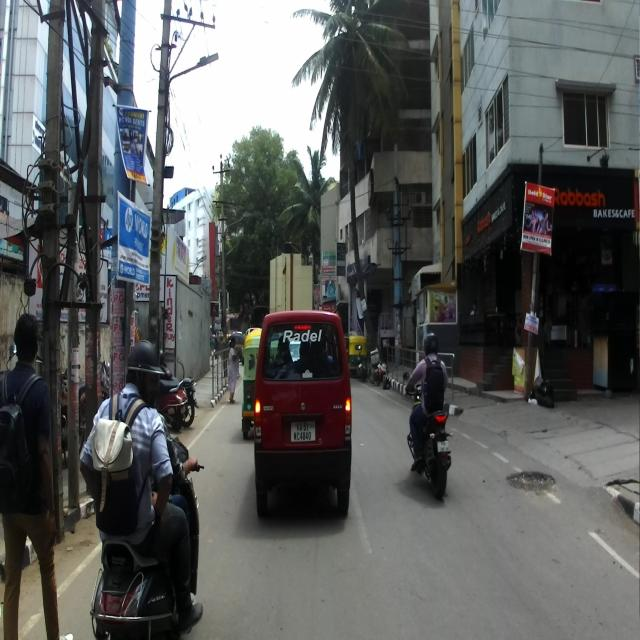car: (253, 307, 355, 529)
motorcycle: (402, 368, 456, 496), (160, 348, 198, 426)
scooter: (88, 436, 215, 638), (154, 368, 186, 429)
